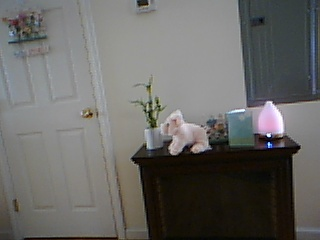piggy: (159, 109, 210, 156)
